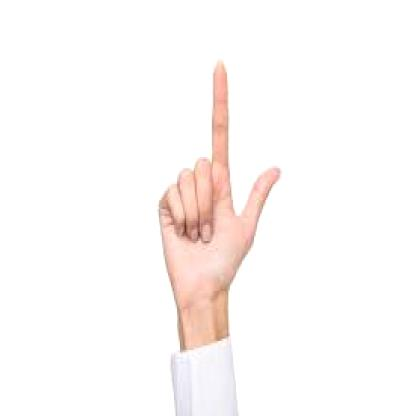Up: (141, 45, 269, 282)
